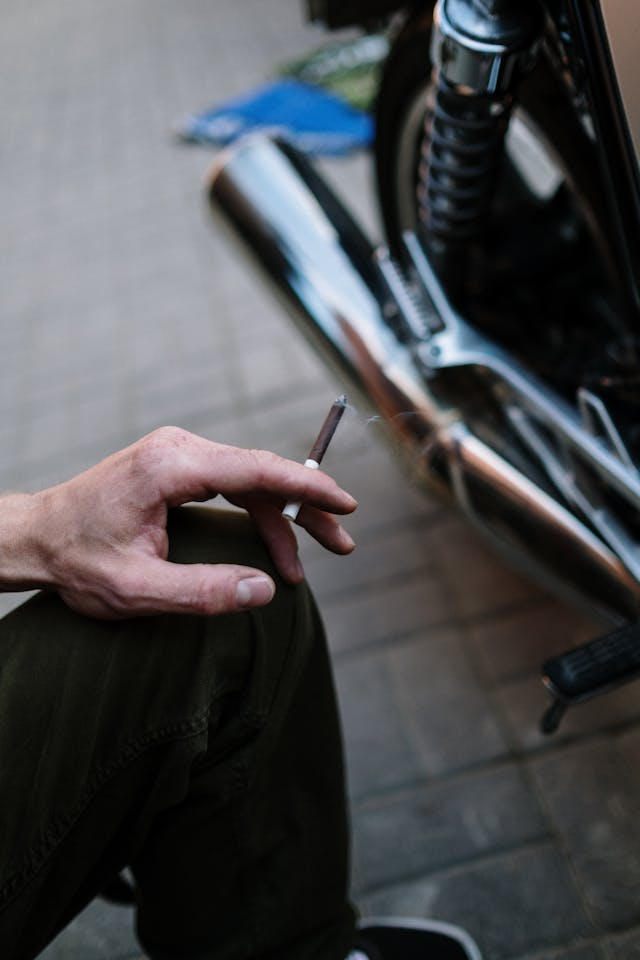Cigarette: (280, 395, 348, 522)
